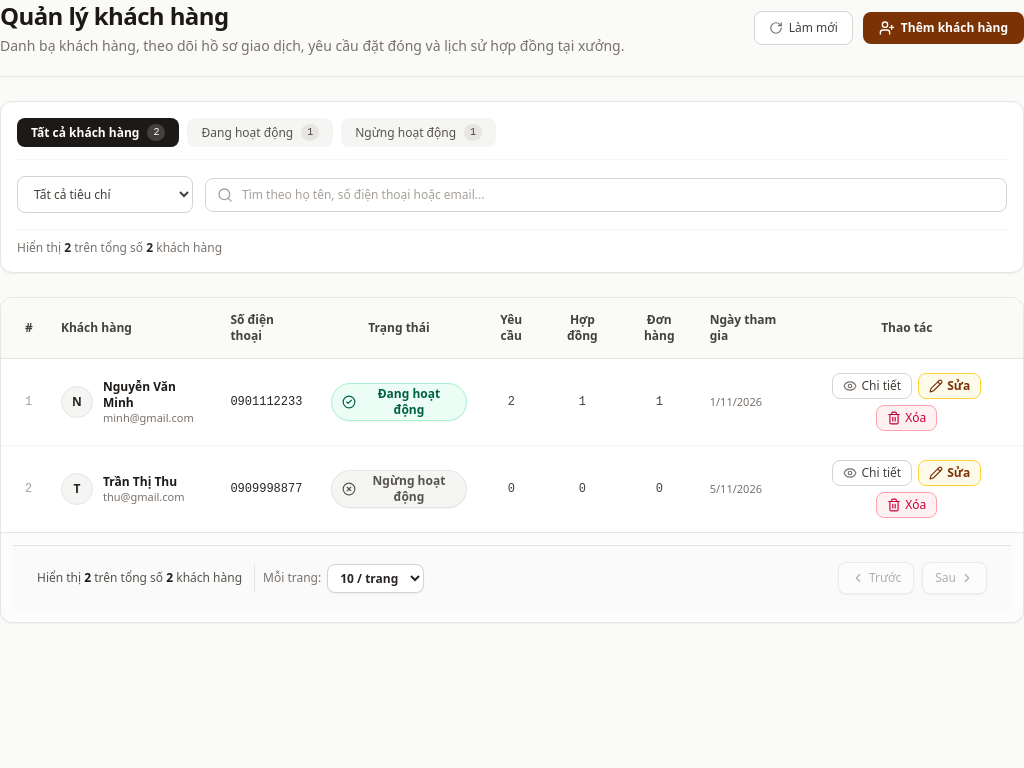
Test: CustomersPage Component › opens detail modal on clicking Chi tiết
Expected: the text "Nguyễn Văn Minh" is shown, [103, 378, 176, 411]
Click the button "Chi tiết" in the row of "Nguyễn Văn Minh" at [872, 386], box [832, 373, 912, 399]
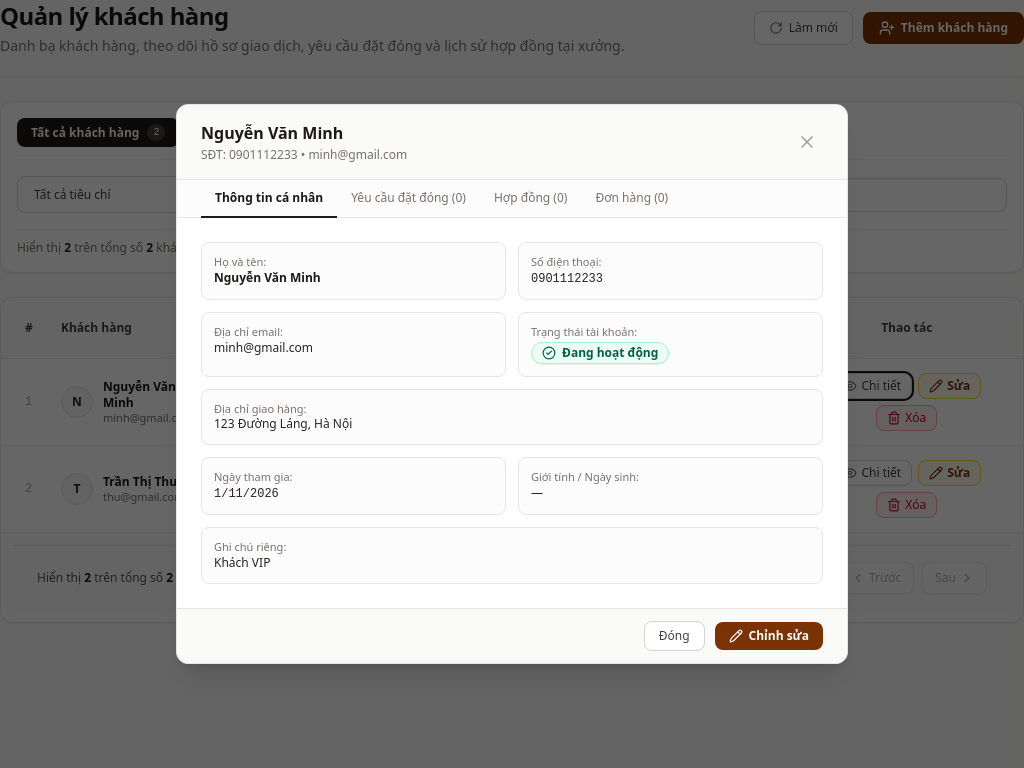
Now the button "Thông tin cá nhân" is shown, box [201, 180, 337, 218]
Now the button "Yêu cầu đặt đóng (0)" is shown, box [337, 180, 480, 218]
